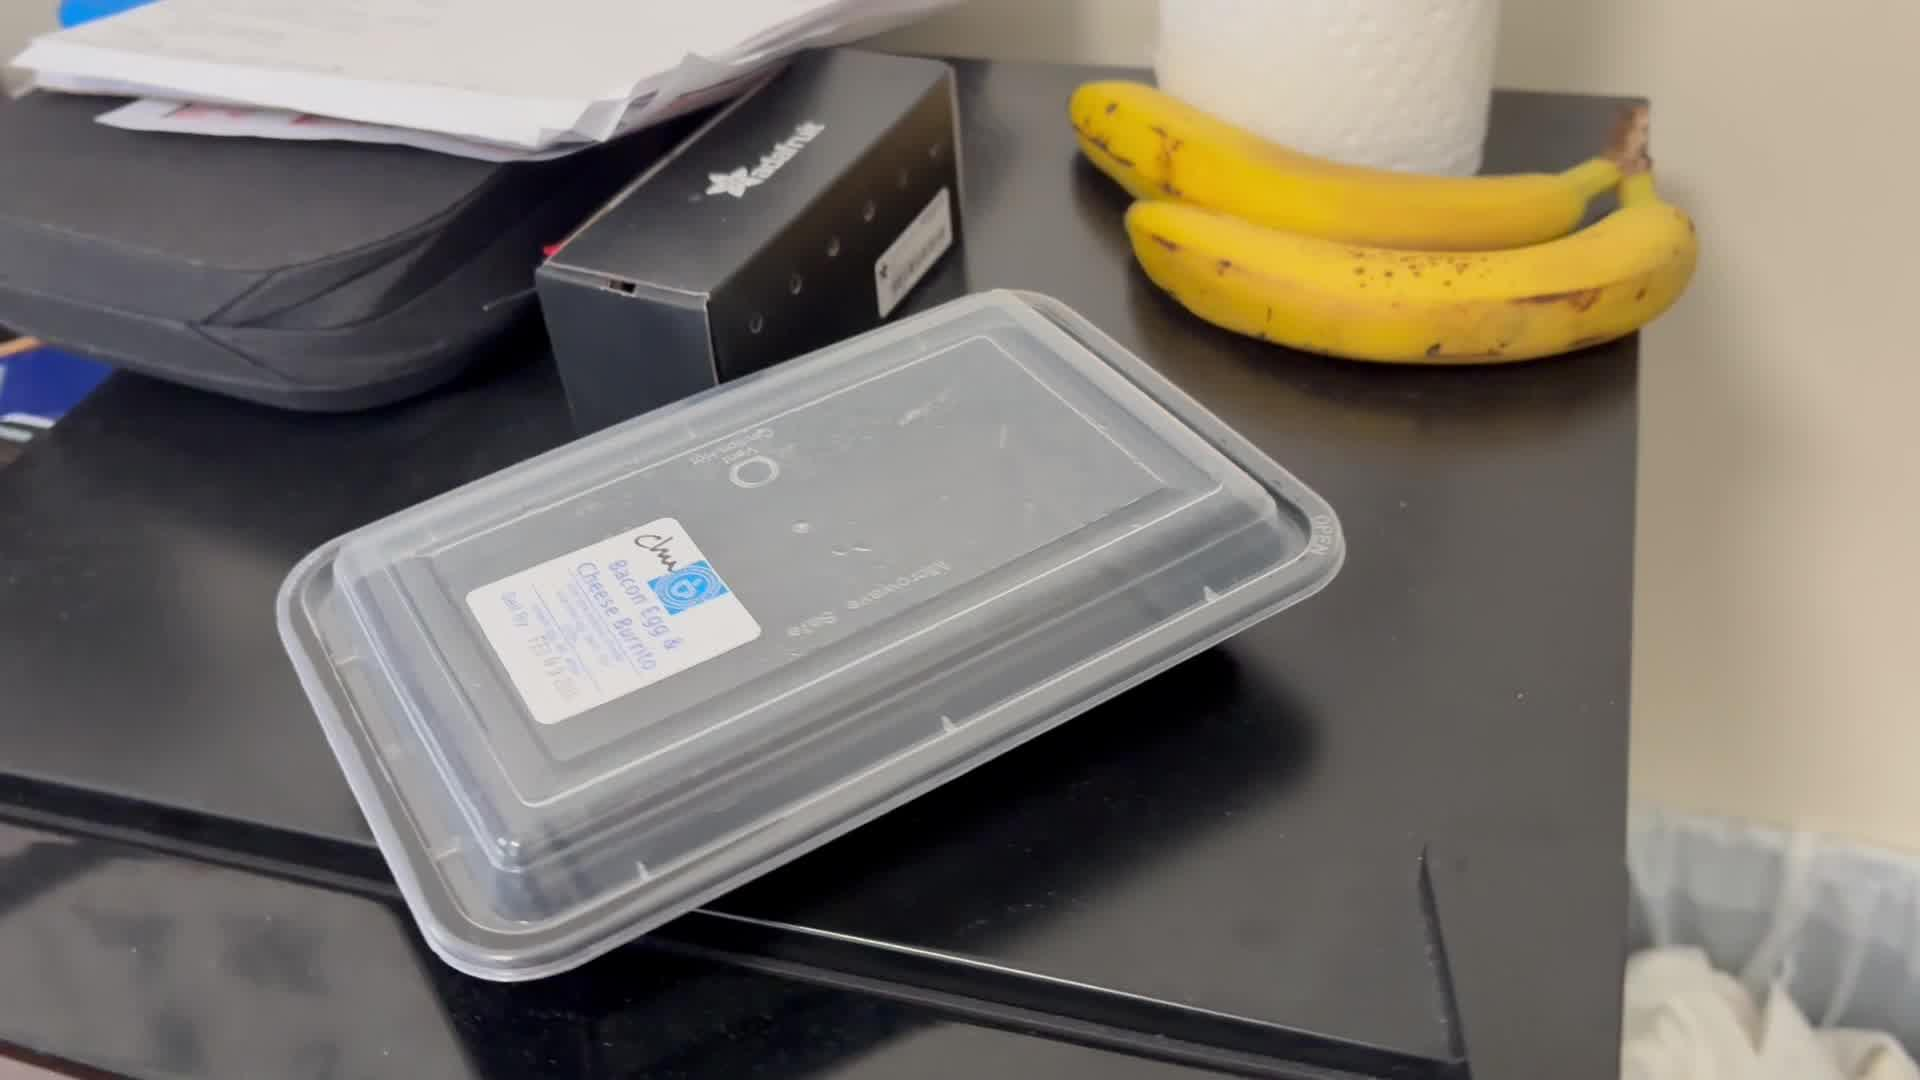lp_cup_lids: (269, 280, 1352, 1001)
